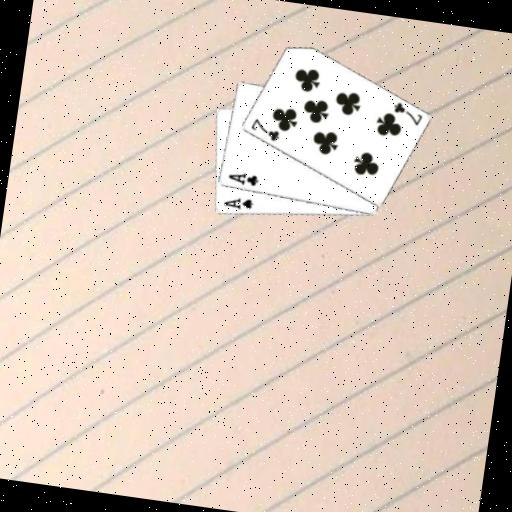7C: (247, 115, 284, 144), (389, 99, 426, 128)
AC: (225, 168, 261, 189)
AS: (220, 193, 255, 214)
